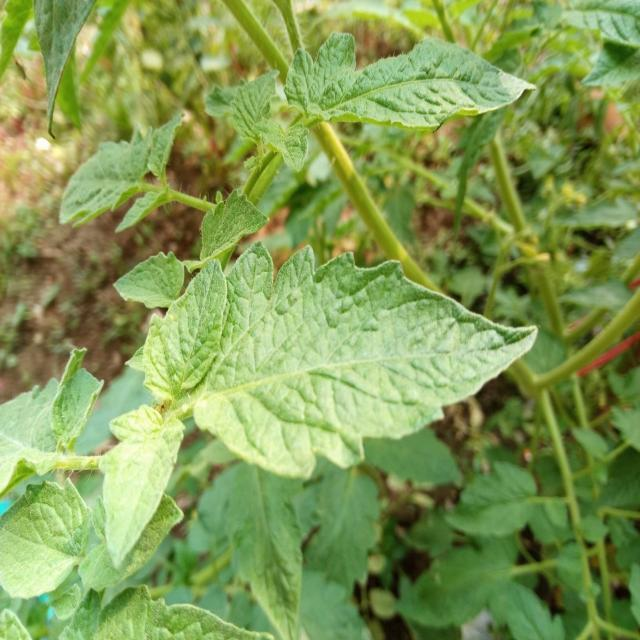Healthy: (116, 178, 540, 550), (73, 398, 188, 575), (0, 479, 90, 598)
